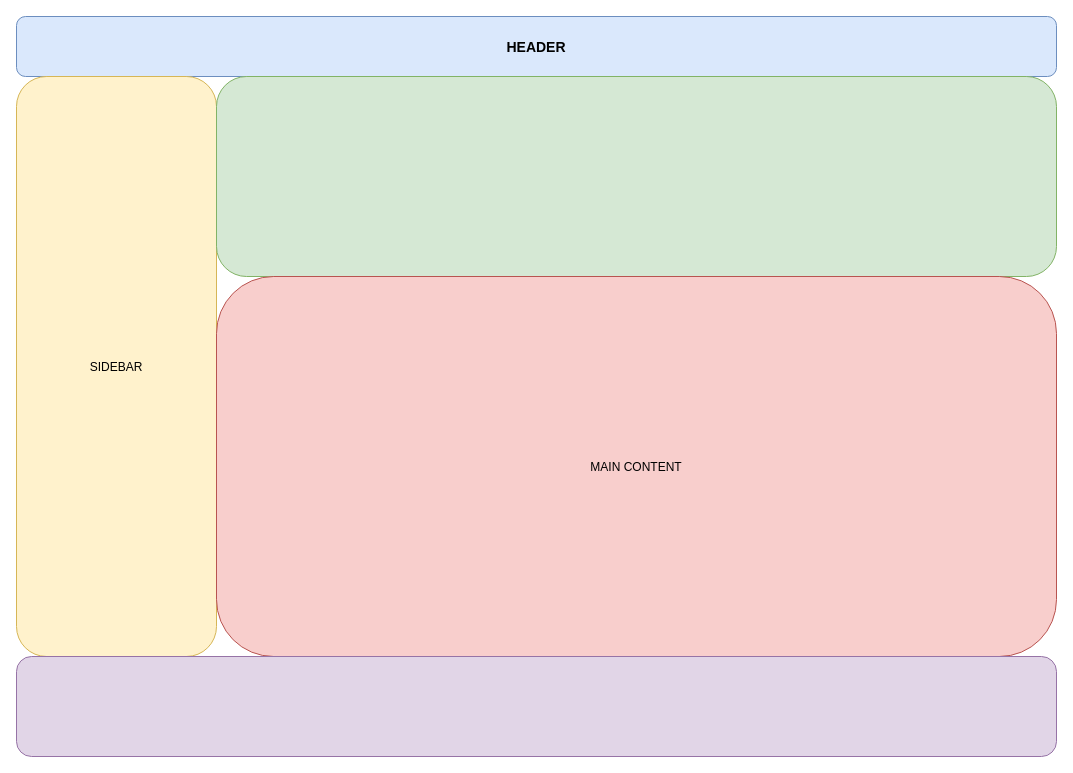
Image size: 1073x773. Some labels were removed from this diagram. The shapes that lost their labels are listed below. From the top down, each one's centre as x and y in pixels, then its label:
At pixel 636 176: "BANNER".
At pixel 536 706: "FOOTER".
